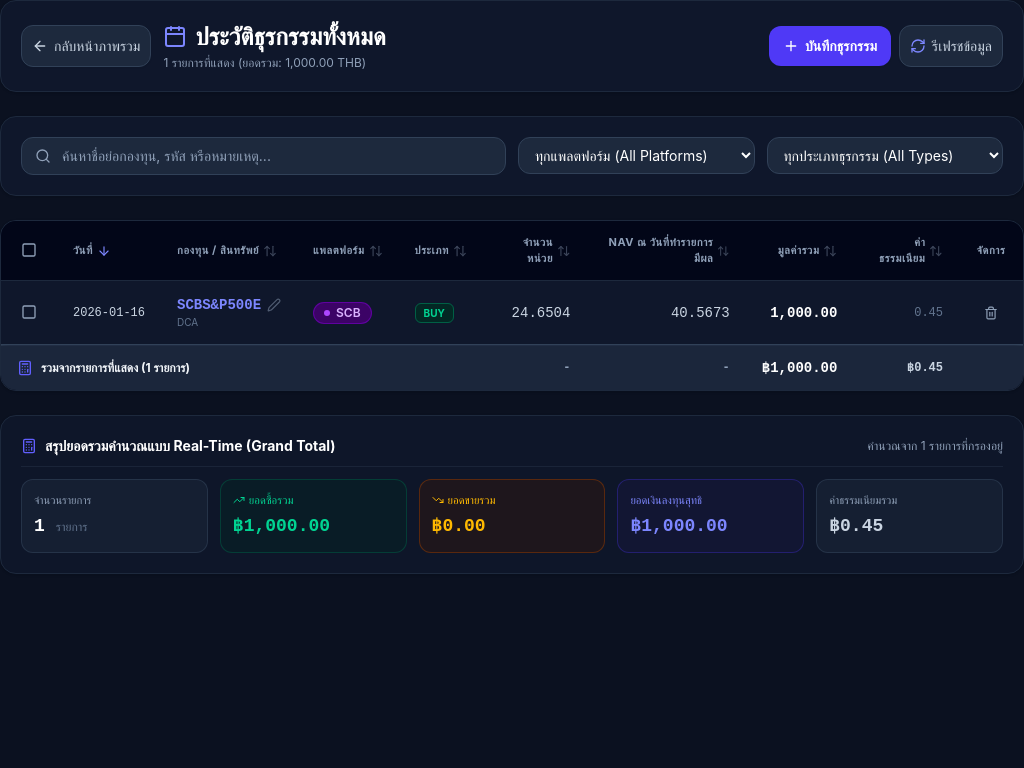
Test: TransactionHistoryPage Reactive Updates and Confirmation Actions › allows recording a new transaction directly from the History page
The width and height of the screenshot is (1024, 768).
expect the text "SCBS&P500E" is shown: met, box [177,295,261,315]
// Click "+ Add Transaction" button in header of History Page
Click the button "บันทึกธุรกรรม": {"x": 830, "y": 46} [769,26,891,66]
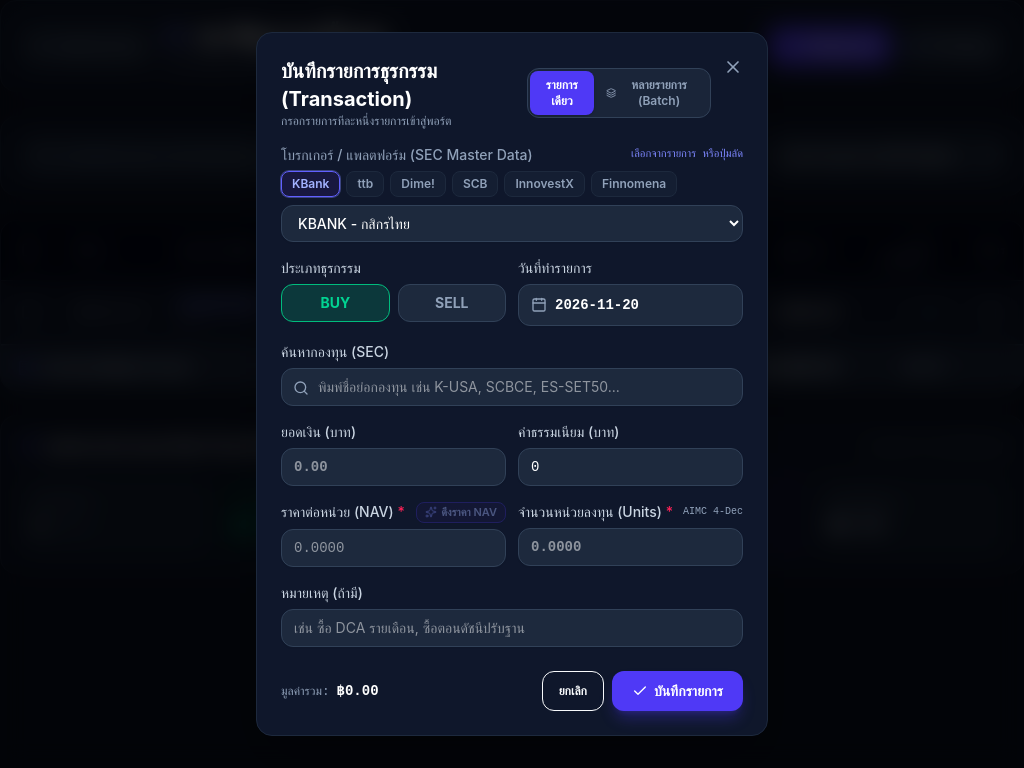
expect the heading "บันทึกรายการธุรกรรม (Transaction)" is shown: met, box [281,59,437,111]
